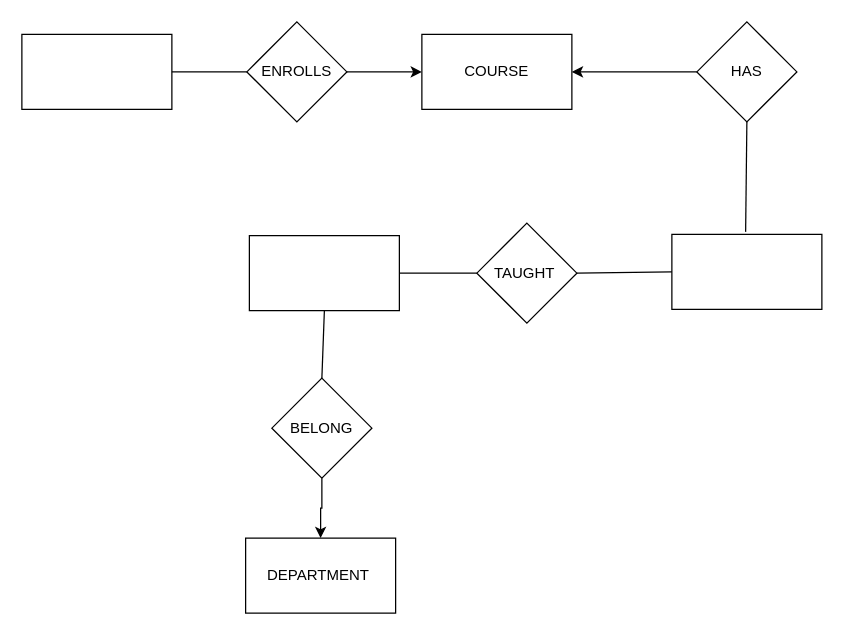
Some shapes in this 844 by 635 pixel diagram are drawn without their labels. The shapes that lost their labels are listed below. From the top down, each one's box as (x1, y1, x2, y2) in pixels, then its label:
(21, 33, 172, 109): STUDENT
(248, 234, 399, 311): TEACHERS
(671, 233, 822, 309): SUBJECT
